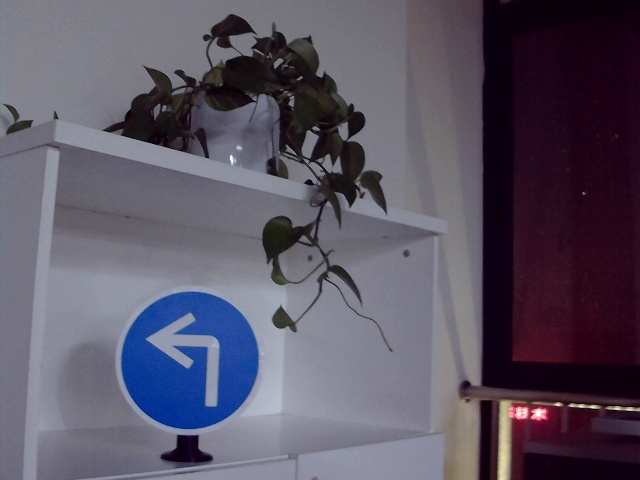turn_left: (145, 306, 234, 411)
